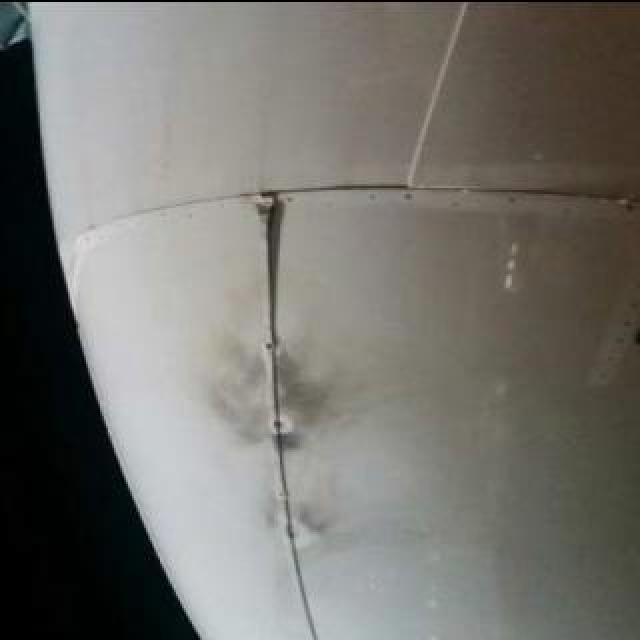crack: (237, 176, 291, 236)
dent: (243, 332, 321, 438), (280, 495, 318, 547)
